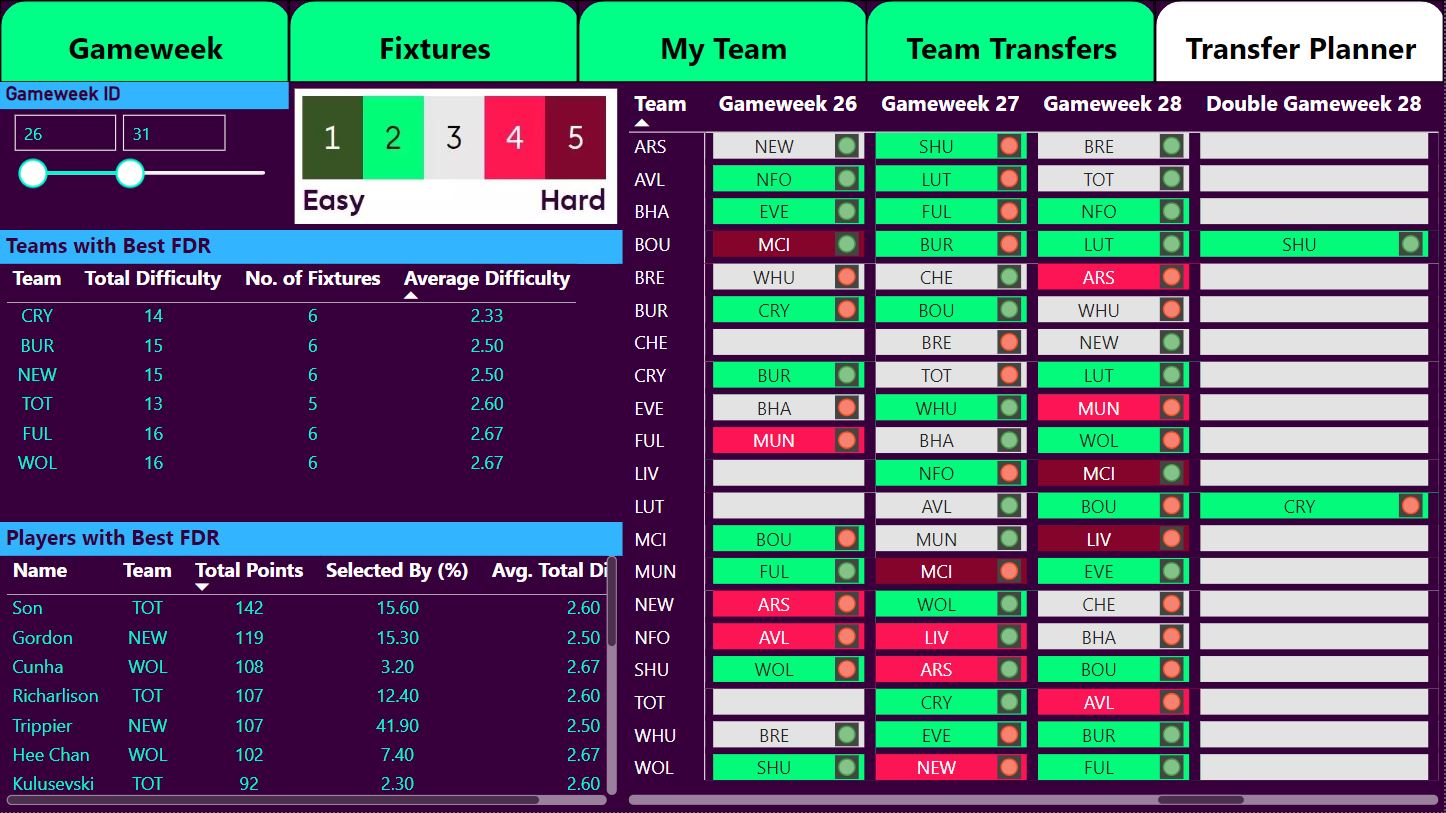

This screenshot's page, from the dashboard's own definition file:
{"tool":"powerbi","page":{"name":"Transfer Planner","canvas":[1280,720],"ordinal":4},"visuals":[{"type":"pivotTable","fields":{"Rows":["dbt_marts fixture_run.team"],"Values":["Min(dbt_marts fixture_run.gameweek_1)","Min(dbt_marts fixture_run.gameweek_2)","Min(dbt_marts fixture_run.gameweek_3)","Min(dbt_marts fixture_run.gameweek_4)","Min(dbt_marts fixture_run.gameweek_5)","Min(dbt_marts fixture_run.gameweek_6)","Min(dbt_marts fixture_run.gameweek_7)","Min(dbt_marts fixture_run.double_gameweek_7)","Min(dbt_marts fixture_run.gameweek_8)","Min(dbt_marts fixture_run.gameweek_9)","Min(dbt_marts fixture_run.gameweek_10)","Min(dbt_marts fixture_run.gameweek_11)"]},"box":[552.5,72.9,727.5,645.8],"z":0},{"type":"shape","box":[0,0,256.5,73.4],"z":1000},{"type":"shape","box":[256.5,0,256.5,73.4],"z":2000},{"type":"shape","box":[512.9,0,256.5,73.4],"z":3000},{"type":"shape","box":[768,0,256.5,73.4],"z":4000},{"type":"shape","box":[1024,0,256.5,73.4],"z":5000},{"type":"tableEx","title":"Teams with Best FDR","fields":{"Values":["dbt_marts difficulty.team","Sum(dbt_marts difficulty.total_difficulty)","Sum(dbt_marts difficulty.number_of_fixtures)","Avg(dbt_marts difficulty.total_difficulty)"]},"box":[0,204.3,552.5,258.7],"z":6000},{"type":"tableEx","title":"Players with Best FDR","fields":{"Values":["dbt_marts key_players.web_name","dbt_marts key_players.team","Sum(dbt_marts key_players.total_points)","Sum(dbt_marts key_players.selected_by_percent)","Avg(dbt_marts difficulty.total_difficulty)"]},"box":[0,463,552.5,255.8],"z":7000},{"type":"slicer","title":"Gameweek ID","fields":{"Values":["dbt_marts difficulty.gameweek_id"]},"box":[0,72.7,256.3,131.2],"z":8000},{"type":"actionButton","box":[571.9,25.3,136.2,38.9],"z":9000},{"type":"actionButton","box":[803.4,25.3,194.5,38.9],"z":10000},{"type":"actionButton","box":[53.5,25.3,150.8,38.9],"z":11000},{"type":"image","box":[256.3,73.6,296.2,130.3],"z":12000}]}

Visuals, with their boxes in screenshot pixels (x1, y1, x2, y2), scaled from the page's 1280x720 canvas onto the 1446x813 screenshot:
pivotTable - dbt_marts fixture_run.team x Min(dbt_marts fixture_run.gameweek_1): <box>624,82,1445,812</box>
shape: <box>0,0,290,83</box>
shape: <box>290,0,580,83</box>
shape: <box>579,0,869,83</box>
shape: <box>868,0,1157,83</box>
shape: <box>1157,0,1445,83</box>
"Teams with Best FDR" tableEx: <box>0,231,624,523</box>
"Players with Best FDR" tableEx: <box>0,523,624,812</box>
"Gameweek ID" slicer: <box>0,82,290,230</box>
actionButton: <box>646,29,800,72</box>
actionButton: <box>908,29,1127,72</box>
actionButton: <box>60,29,231,72</box>
image: <box>290,83,624,230</box>
